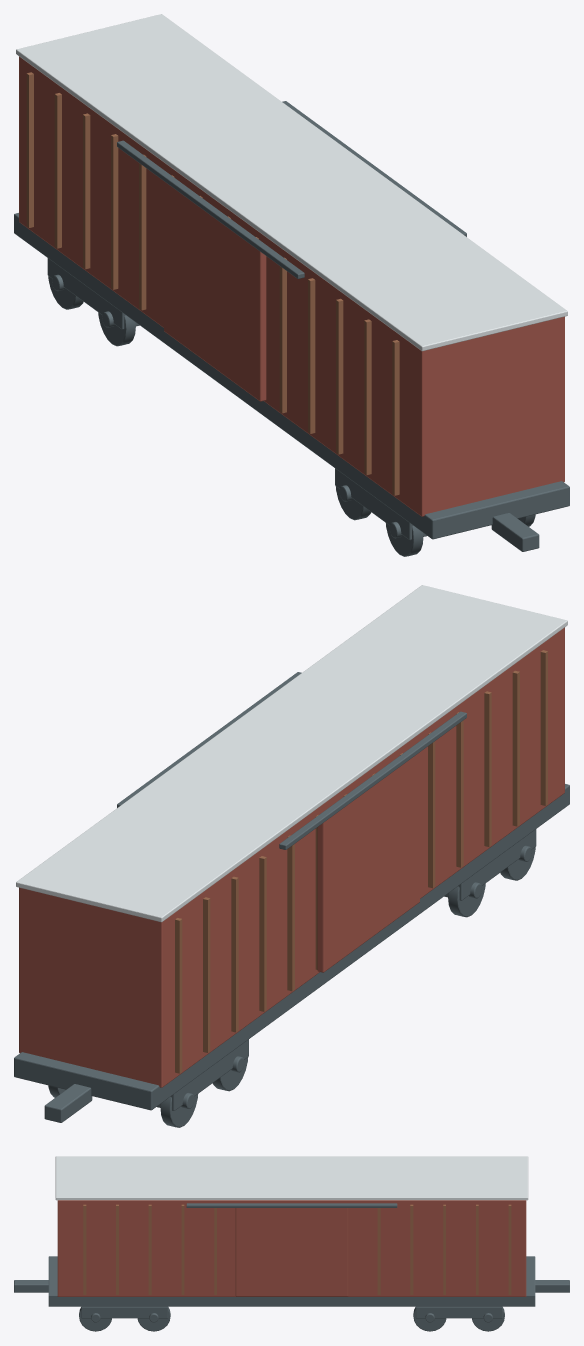
File: rail_boxcar.glb
3 views of the same model, one above another, from view 1: azimuth 30°, elevation 25°; view 2: azimuth 150°, elevation 25°; view 3: azimuth 270°, elevation 25° (orthographic). The views are drawn at different scales.
Parts seen in each view (by area): view 1: rail_boxcar; view 2: rail_boxcar; view 3: rail_boxcar.
Boxes of the visible parts, left/top/right/bottom form: rail_boxcar: left=14, top=14, right=569, bottom=556; rail_boxcar: left=14, top=585, right=569, bottom=1127; rail_boxcar: left=14, top=1156, right=569, bottom=1331.
Bounding box in the file's own units: 3.13 × 4.18 × 15.3.
